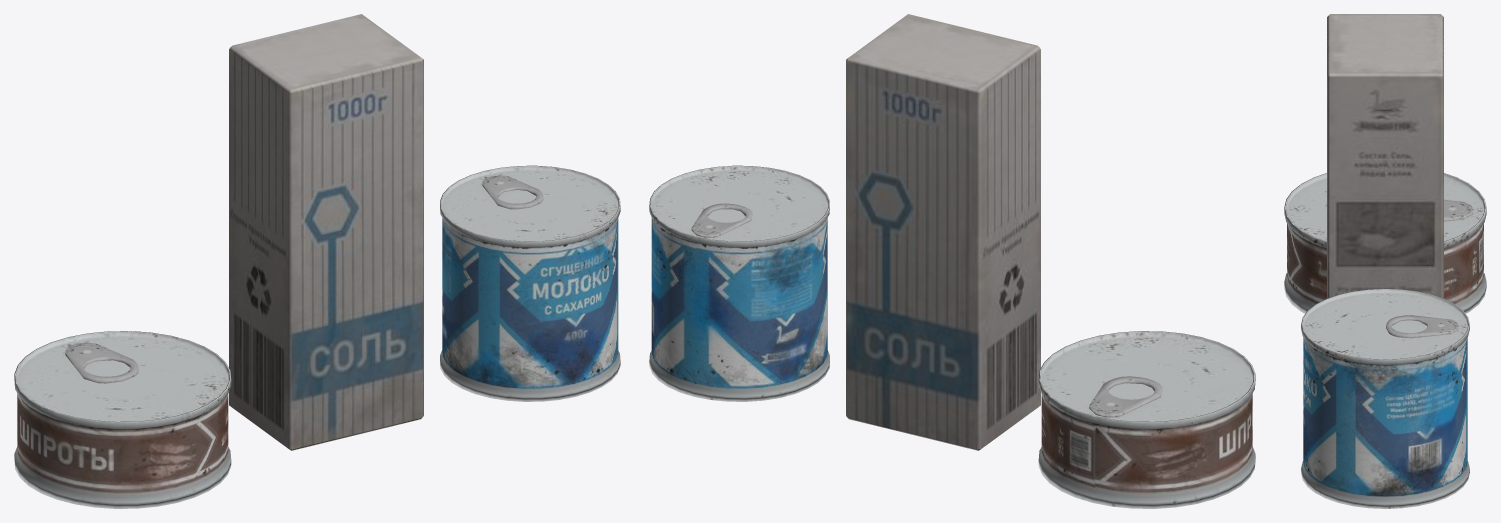
The model's file is russian_food_cans_01.glb.
3 views of the same model, side by side, from view 1: azimuth 30°, elevation 25°; view 2: azimuth 150°, elevation 25°; view 3: azimuth 270°, elevation 25° (orthographic). The views are drawn at different scales.
Parts seen in each view (by area): view 1: russian_food_cans_01_salt_box, russian_food_cans_01_can_cond, russian_food_cans_01_can_fish; view 2: russian_food_cans_01_salt_box, russian_food_cans_01_can_cond, russian_food_cans_01_can_fish; view 3: russian_food_cans_01_can_cond, russian_food_cans_01_salt_box, russian_food_cans_01_can_fish.
Part boxes in pixels (<box>): russian_food_cans_01_salt_box: <box>229,14,423,450</box>; russian_food_cans_01_can_cond: <box>440,165,620,401</box>; russian_food_cans_01_can_fish: <box>14,331,231,508</box>; russian_food_cans_01_salt_box: <box>846,14,1040,450</box>; russian_food_cans_01_can_cond: <box>649,165,829,401</box>; russian_food_cans_01_can_fish: <box>1038,331,1255,508</box>; russian_food_cans_01_can_cond: <box>1301,288,1469,508</box>; russian_food_cans_01_salt_box: <box>1327,14,1443,298</box>; russian_food_cans_01_can_fish: <box>1284,173,1486,313</box>.
Size of the model in its own units: 0.1424 by 0.0849 by 0.0462.
1 material, 1 textured.
